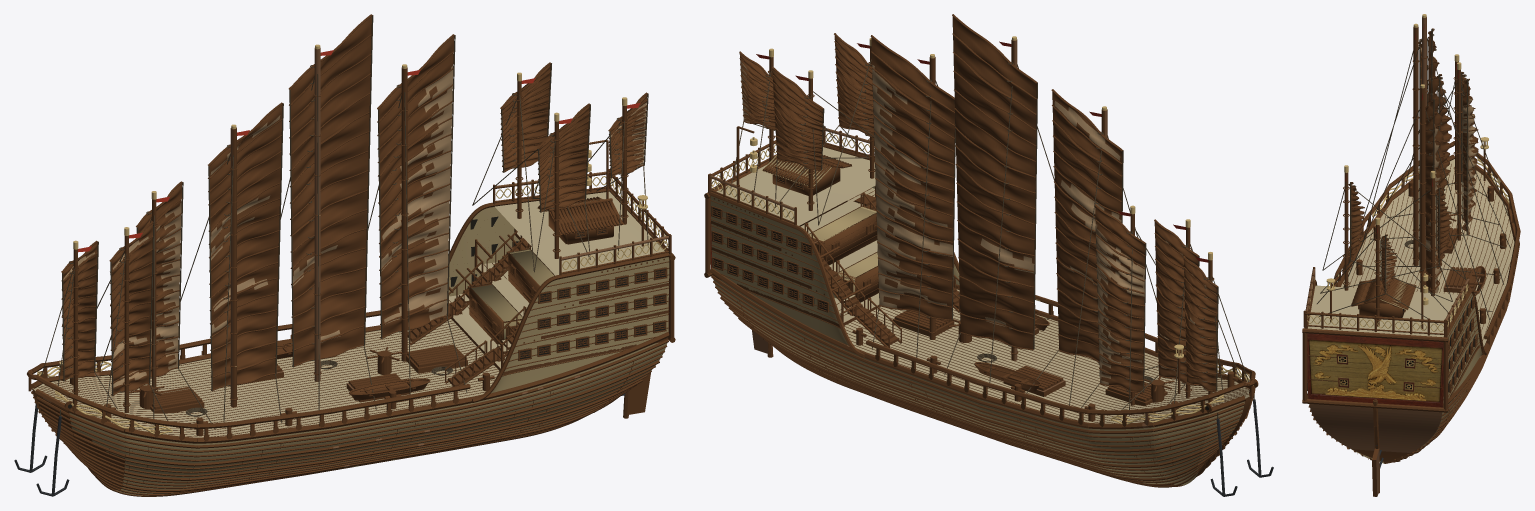
The model's file is shipModelData-treasureShip.glb.
The picture shows the model from 3 angles, left to right: view 1: azimuth 30°, elevation 25°; view 2: azimuth 150°, elevation 25°; view 3: azimuth 270°, elevation 25°; orthographic projection. The views are drawn at different scales.
Parts seen in each view (by area): view 1: Charcoal woven sails, Dark mahogany structural timbers, Golden olive timber planking, Pale timber deck, Light honey carved wood, Tarred hemp rope, Carved gilt ornaments, Window recesses, Forged dark iron; view 2: Charcoal woven sails, Dark mahogany structural timbers, Light honey carved wood, Golden olive timber planking, Pale timber deck, Tarred hemp rope, Carved gilt ornaments, Window recesses, Forged dark iron; view 3: Dark mahogany structural timbers, Pale timber deck, Photo referenced phoenix carved stern, Charcoal woven sails, Tarred hemp rope, Light honey carved wood, Golden olive timber planking, Carved gilt ornaments, Window recesses.
Part boxes in pixels (x1,y1,x2,y2): Charcoal woven sails: (63, 16, 647, 393); Dark mahogany structural timbers: (31, 15, 675, 493); Golden olive timber planking: (32, 196, 669, 495); Pale timber deck: (32, 191, 668, 437); Light honey carved wood: (27, 14, 670, 496); Tarred hemp rope: (37, 15, 648, 435); Carved gilt ornaments: (37, 44, 668, 434); Window recesses: (68, 216, 665, 408); Forged dark iron: (14, 393, 625, 496); Charcoal woven sails: (740, 16, 1217, 392); Dark mahogany structural timbers: (704, 14, 1255, 485); Light honey carved wood: (708, 14, 1258, 487); Golden olive timber planking: (710, 155, 1251, 486); Pale timber deck: (711, 147, 1249, 423); Tarred hemp rope: (730, 14, 1254, 433); Carved gilt ornaments: (711, 36, 1253, 424); Window recesses: (712, 177, 1208, 409); Forged dark iron: (1210, 399, 1273, 496); Dark mahogany structural timbers: (1302, 17, 1519, 496); Pale timber deck: (1308, 159, 1514, 397); Photo referenced phoenix carved stern: (1307, 333, 1443, 407); Charcoal woven sails: (1349, 29, 1478, 293); Tarred hemp rope: (1317, 29, 1510, 324); Light honey carved wood: (1304, 28, 1520, 461); Golden olive timber planking: (1351, 267, 1484, 463); Carved gilt ornaments: (1307, 14, 1514, 331); Window recesses: (1307, 296, 1475, 392).
Size of the model in its own units: 14.52 by 10.3 by 5.49.
Materials: 8 (3 with a texture image).
